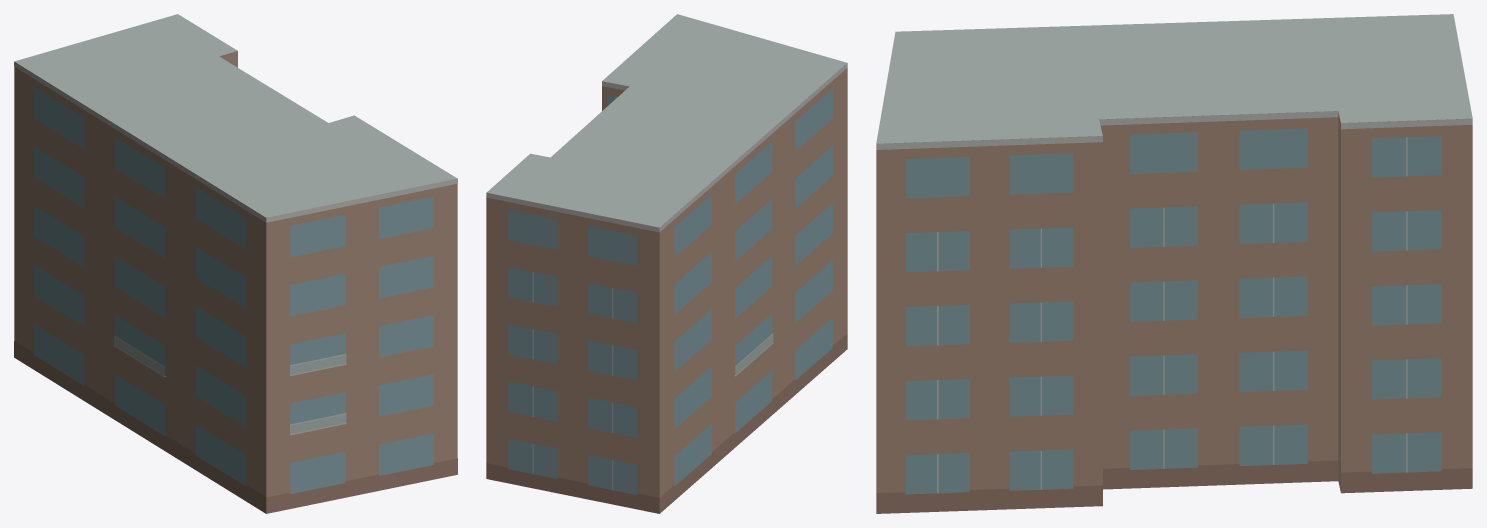
Rendered from survey-upis-33023781.glb.
3 renders of one model, left to right at view 1: azimuth 30°, elevation 25°; view 2: azimuth 150°, elevation 25°; view 3: azimuth 270°, elevation 25°, orthographic. The views are drawn at different scales.
Parts seen in each view (by area): view 1: survey-upis-33023781.tmp; view 2: survey-upis-33023781.tmp; view 3: survey-upis-33023781.tmp.
Boxes of the visible parts, x1,y1,x2,y2 form: survey-upis-33023781.tmp: (14, 14, 457, 513); survey-upis-33023781.tmp: (486, 14, 847, 513); survey-upis-33023781.tmp: (876, 14, 1472, 513).
Size of the model in its own units: 10.87 by 14.45 by 21.12.
